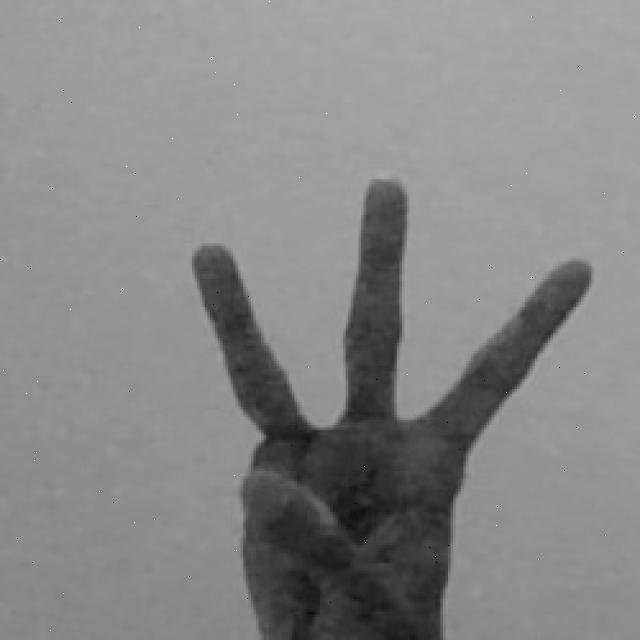W: (174, 169, 603, 640)
